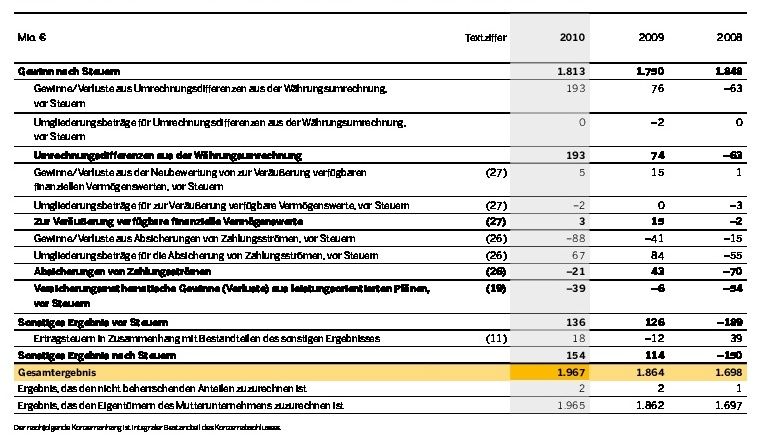table: (0, 0, 768, 443)
